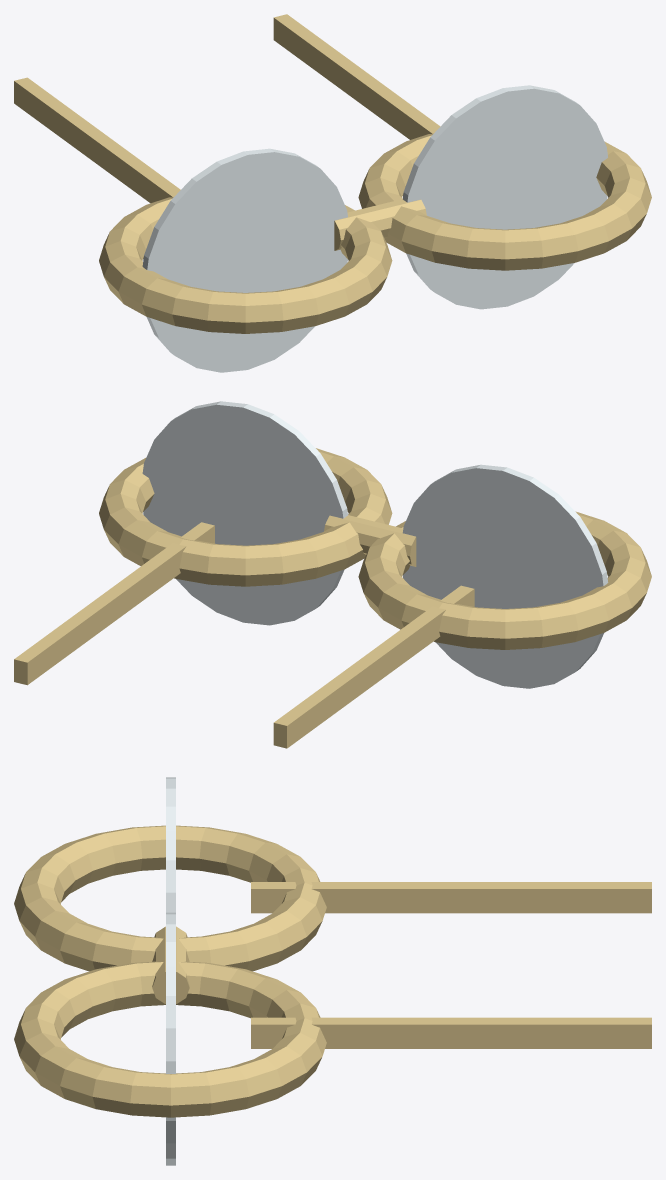
Rendered from item_42_reading_glasses.glb.
The picture shows the model from 3 angles, top to bottom: view 1: azimuth 30°, elevation 25°; view 2: azimuth 150°, elevation 25°; view 3: azimuth 270°, elevation 25°; orthographic projection. The views are drawn at different scales.
Parts seen in each view (by area): view 1: I42_Lens1, I42_Lens0, I42_Rim0, I42_Rim1, I42_Temple1, I42_Temple0, I42_Bridge; view 2: I42_Lens1, I42_Lens0, I42_Rim0, I42_Rim1, I42_Temple0, I42_Temple1, I42_Bridge; view 3: I42_Rim1, I42_Rim0, I42_Temple1, I42_Temple0, I42_Lens1, I42_Bridge, I42_Lens0.
Part boxes in pixels (x1=…): I42_Lens1: x1=403, y1=85, x2=607, y2=309; I42_Lens0: x1=142, y1=148, x2=347, y2=372; I42_Rim0: x1=99, y1=197, x2=392, y2=333; I42_Rim1: x1=358, y1=133, x2=651, y2=270; I42_Temple1: x1=273, y1=14, x2=440, y2=139; I42_Temple0: x1=14, y1=77, x2=180, y2=203; I42_Bridge: x1=334, y1=199, x2=426, y2=250; I42_Lens1: x1=142, y1=401, x2=347, y2=625; I42_Lens0: x1=402, y1=464, x2=608, y2=688; I42_Rim0: x1=358, y1=511, x2=651, y2=649; I42_Rim1: x1=99, y1=448, x2=392, y2=586; I42_Temple0: x1=273, y1=585, x2=474, y2=748; I42_Temple1: x1=14, y1=522, x2=214, y2=685; I42_Bridge: x1=324, y1=515, x2=416, y2=566; I42_Rim1: x1=14, y1=961, x2=326, y2=1117; I42_Rim0: x1=14, y1=825, x2=326, y2=971; I42_Temple1: x1=251, y1=1017, x2=651, y2=1048; I42_Temple0: x1=251, y1=882, x2=651, y2=913; I42_Lens1: x1=166, y1=912, x2=175, y2=1165; I42_Bridge: x1=152, y1=926, x2=189, y2=1003; I42_Lens0: x1=166, y1=777, x2=175, y2=912.
Size of the model in its own units: 0.095 by 0.038 by 0.0955.
